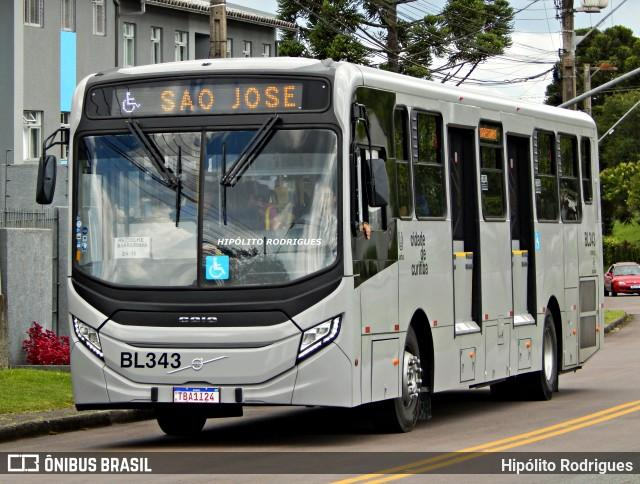SAO JOSE: (154, 83, 300, 116)
